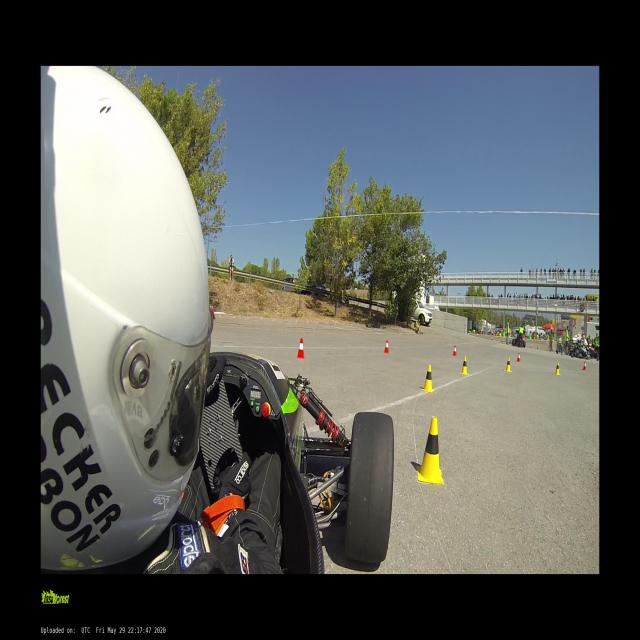orange_cone: (296, 338, 305, 359), (384, 339, 389, 354), (452, 345, 457, 357), (517, 352, 520, 363), (583, 361, 586, 371), (491, 336, 493, 341), (502, 339, 504, 343), (477, 332, 478, 337), (531, 343, 532, 348)
yellow_cone: (418, 417, 446, 486), (422, 364, 434, 392), (460, 356, 469, 375), (504, 357, 512, 372), (555, 362, 560, 376)
